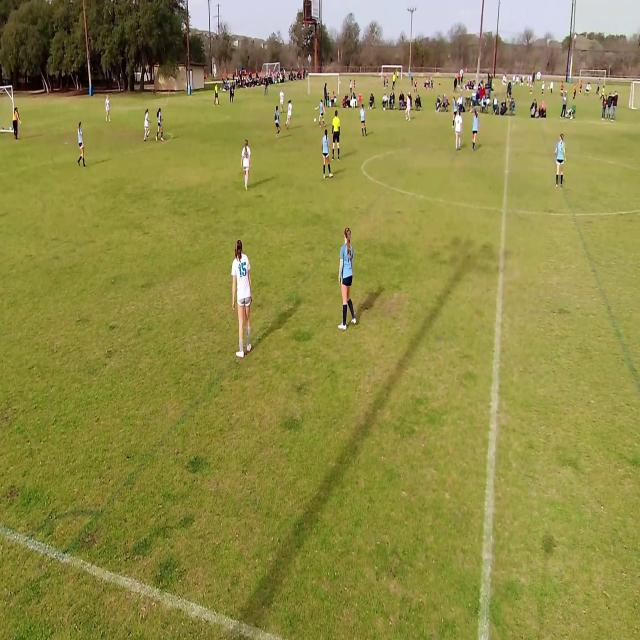ball: (314, 118, 317, 124)
team1: (340, 228, 358, 333), (322, 132, 332, 178), (77, 121, 86, 168), (472, 111, 480, 156), (359, 104, 367, 139), (274, 108, 282, 141), (157, 109, 164, 142), (319, 101, 326, 129), (452, 98, 457, 121)
team2: (231, 239, 251, 356), (554, 133, 567, 189), (240, 140, 250, 190), (454, 114, 462, 154), (144, 109, 151, 141), (286, 99, 293, 129), (280, 87, 286, 122), (105, 94, 112, 122), (406, 97, 412, 123)
